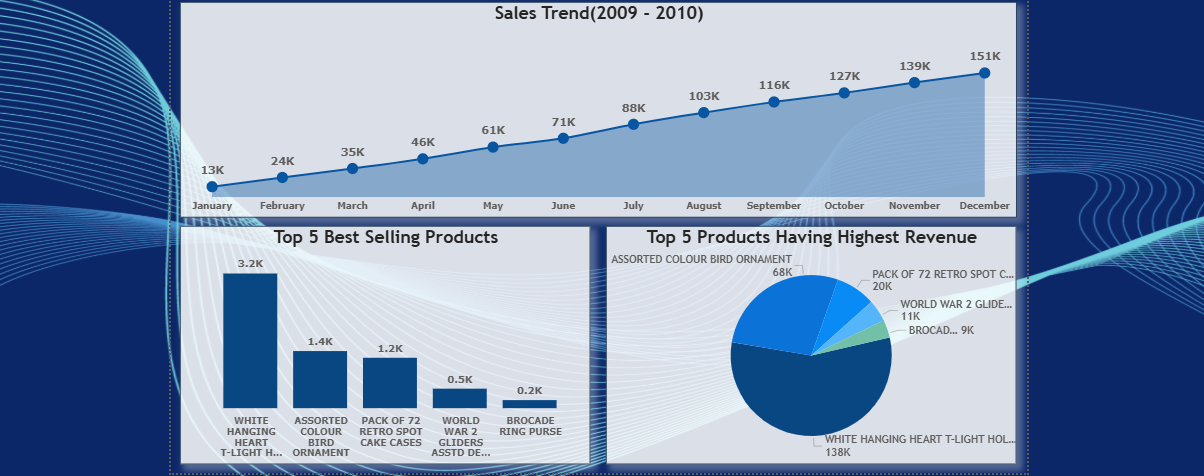

This screenshot's page, from the dashboard's own definition file:
{"tool":"powerbi","page":{"name":"Page 1","canvas":[1280,720],"ordinal":0},"visuals":[{"type":"columnChart","title":"Top 5 Best Selling Products","fields":{"Category":["Year 2009-2010.Product"],"Y":["CountNonNull(Year 2009-2010.Sales)"]},"box":[13.4,351.1,613.1,356.1],"z":0},{"type":"lineChart","title":"Sales Trend(2009 - 2010)","fields":{"Y":["Year 2009-2010.Count of Sales YTD"],"Category":["Year 2009-2010.InvoiceDate.Variation.Date Hierarchy.Year","Year 2009-2010.InvoiceDate.Variation.Date Hierarchy.Quarter","Year 2009-2010.InvoiceDate.Variation.Date Hierarchy.Month","Year 2009-2010.InvoiceDate.Variation.Date Hierarchy.Day"]},"box":[14.1,15.8,1250.1,322.2],"z":1000},{"type":"pieChart","title":"Top 5 Products Having Highest Revenue","fields":{"Category":["Year 2009-2010.Product"],"Y":["Year 2009-2010.Revenue"]},"box":[650.1,351.1,613.1,356.1],"z":2000}]}

Visuals, with their boxes in screenshot pixels (x1, y1, x2, y2):
"Top 5 Best Selling Products" columnChart: 175 225 590 466
"Sales Trend(2009 - 2010)" lineChart: 176 0 1022 216
"Top 5 Products Having Highest Revenue" pieChart: 606 225 1021 466
